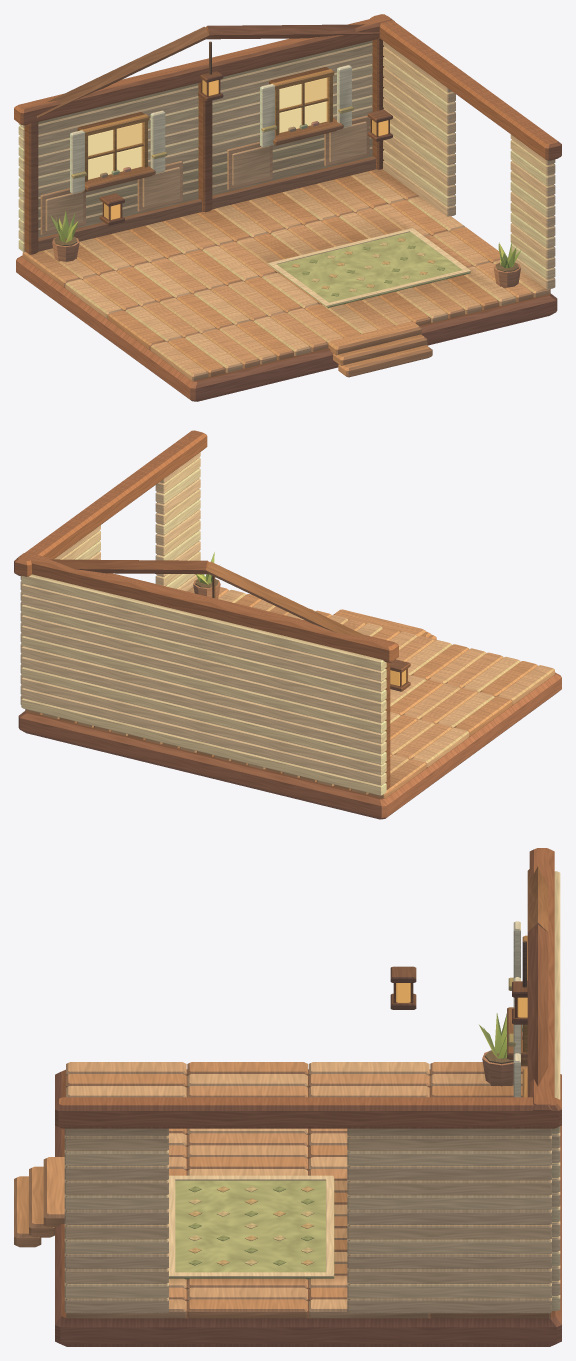
The model's file is interior.glb.
The picture shows the model from 3 angles, top to bottom: view 1: azimuth 30°, elevation 25°; view 2: azimuth 150°, elevation 25°; view 3: azimuth 270°, elevation 25°; orthographic projection. The views are drawn at different scales.
Visible parts, largest first — view 1: Dollhouse · Innenraum; view 2: Dollhouse · Innenraum; view 3: Dollhouse · Innenraum.
Boxes of the visible parts, left/top/right/bottom form: Dollhouse · Innenraum: left=14, top=14, right=561, bottom=401; Dollhouse · Innenraum: left=14, top=430, right=561, bottom=819; Dollhouse · Innenraum: left=14, top=848, right=561, bottom=1346.
Size of the model in its own units: 7.45 by 3.99 by 6.63.
Materials: 4 (3 with a texture image).
